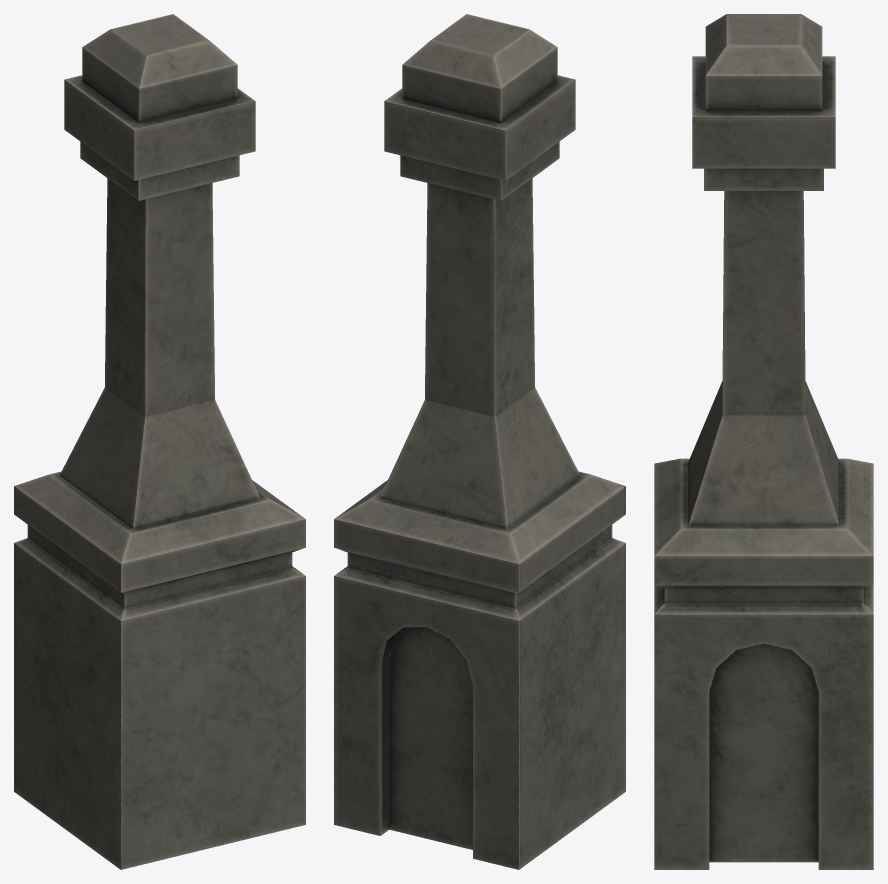
Rendered from SM_Column3.fbx.
The picture shows the model from 3 angles, left to right: view 1: azimuth 30°, elevation 25°; view 2: azimuth 150°, elevation 25°; view 3: azimuth 270°, elevation 25°; orthographic projection. The views are drawn at different scales.
Visible parts, largest first — view 1: SM_Column3; view 2: SM_Column3; view 3: SM_Column3.
Part boxes in pixels (<box>): SM_Column3: <box>14,14,305,869</box>; SM_Column3: <box>334,14,625,869</box>; SM_Column3: <box>654,14,873,869</box>.
Size of the model in its own units: 44.21 by 44.21 by 177.
